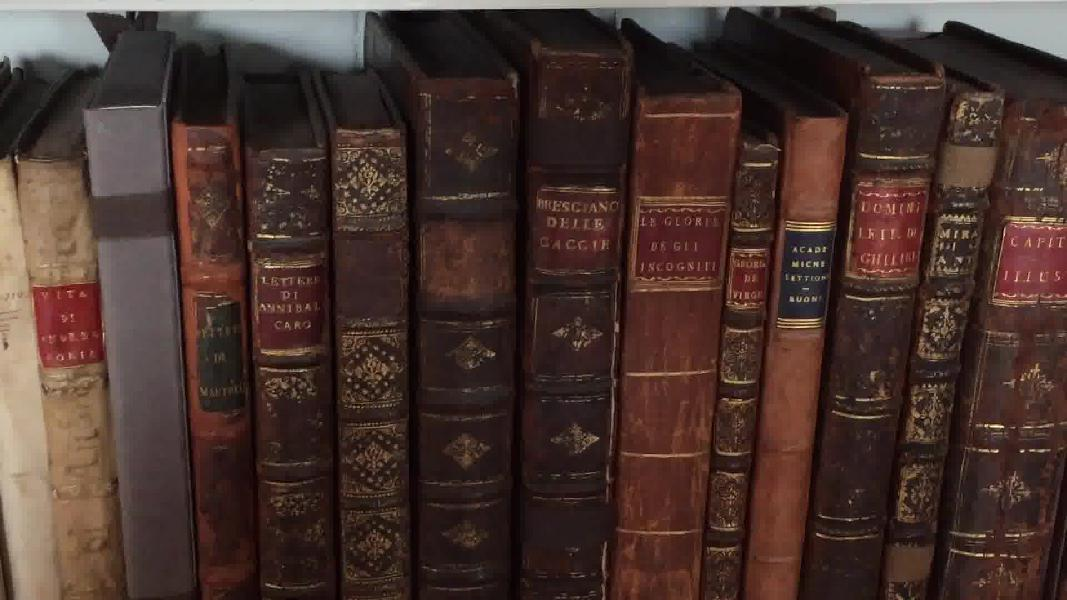Aa6-27: (79, 90, 215, 600), (13, 136, 130, 600)
Aa6-28: (165, 109, 268, 600)
Aa6-29: (242, 142, 342, 600)
Aa6-30: (325, 111, 416, 600)
Aa6-31: (402, 63, 526, 600)
Aa6-32: (511, 17, 627, 600)
Aa6-33: (611, 50, 737, 600)
Aa6-34: (701, 93, 779, 600)
Aa6-35: (740, 109, 861, 600)
Aa6-36: (786, 52, 951, 594)
Aa6-37: (889, 55, 1002, 600)
Aa6-38: (924, 36, 1059, 600)
